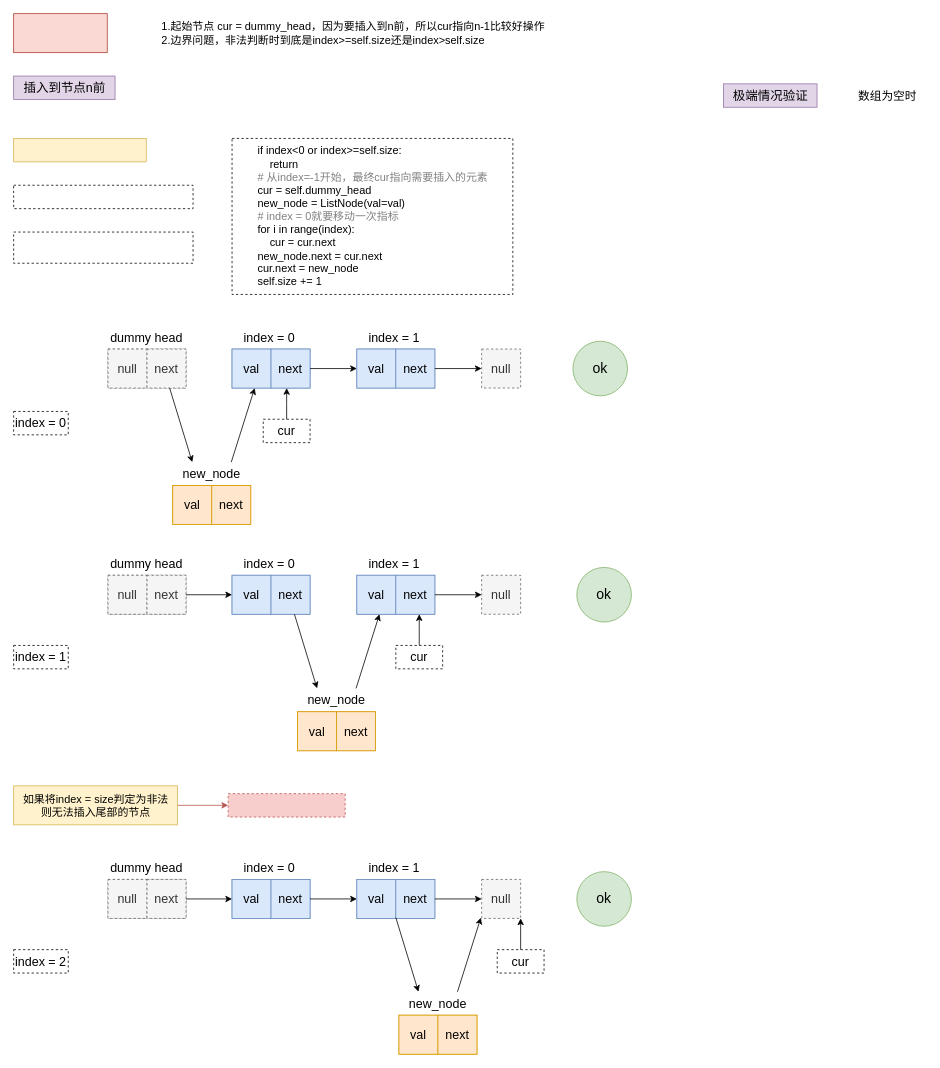
Image size: 940x1068. Some labels were removed from this diagram. Each missing label, with the centre of its shape:
Case 1 index>=self.size: point (79, 150)
Point: 边界问题！！: point (60, 33)
size = 2 for i in range(index) = [0,1]: point (103, 247)
链表就会少一个数: point (286, 805)
需要将元素插入到index前！！: point (103, 196)
